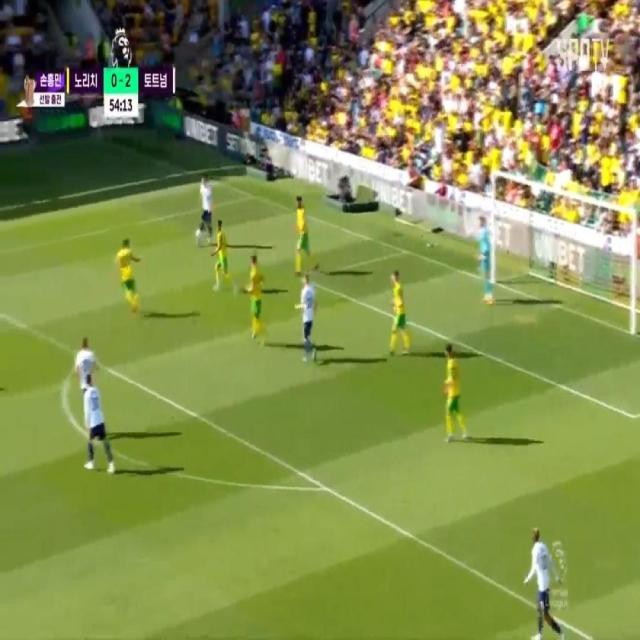ball: (193, 222, 202, 245)
goalkeeper: (472, 200, 503, 319)
player: (525, 527, 555, 640), (79, 370, 111, 465), (63, 333, 101, 403), (295, 268, 322, 364), (439, 340, 462, 445), (113, 235, 139, 323), (385, 263, 410, 349), (244, 252, 266, 346), (193, 171, 215, 244), (293, 188, 309, 279), (211, 218, 227, 288)
